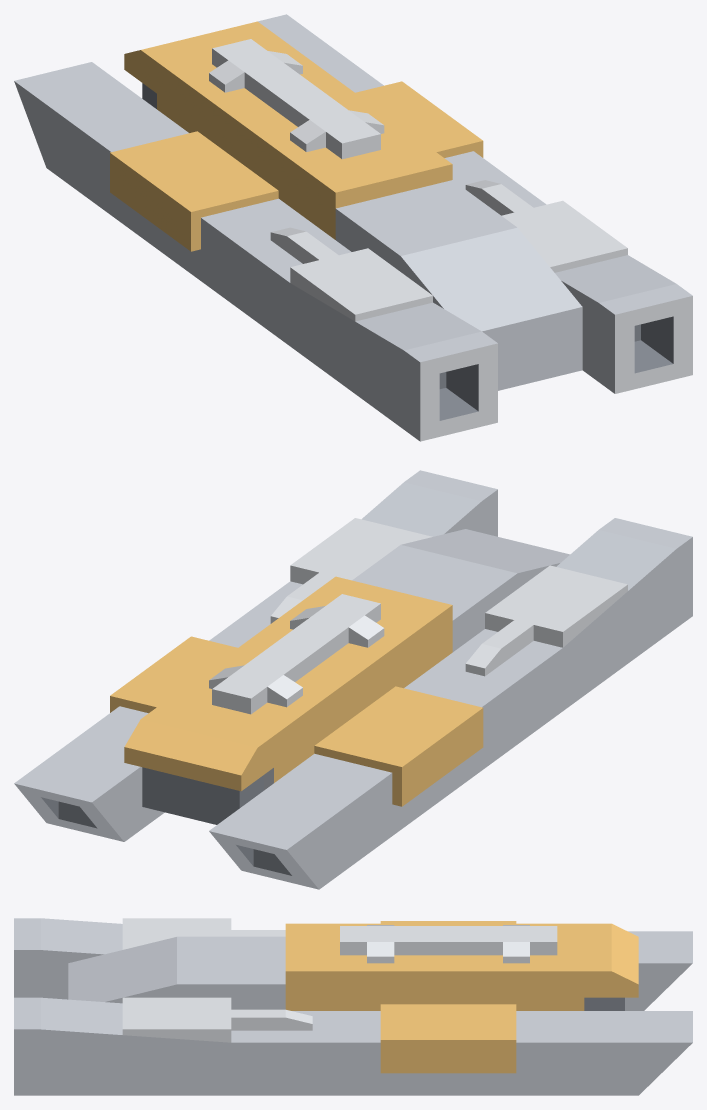
The model's file is leviathan.glb.
3 renders of one model, top to bottom at view 1: azimuth 30°, elevation 25°; view 2: azimuth 150°, elevation 25°; view 3: azimuth 270°, elevation 25°, orthographic. The views are drawn at different scales.
Visible parts, largest first — view 1: craft_cargoB; view 2: craft_cargoB; view 3: craft_cargoB.
Boxes of the visible parts, x1=… form: craft_cargoB: x1=14, y1=14, x2=692, y2=441; craft_cargoB: x1=14, y1=470, x2=692, y2=889; craft_cargoB: x1=14, y1=918, x2=692, y2=1095.
Size of the model in its own units: 2.7 by 1.26 by 6.5.
